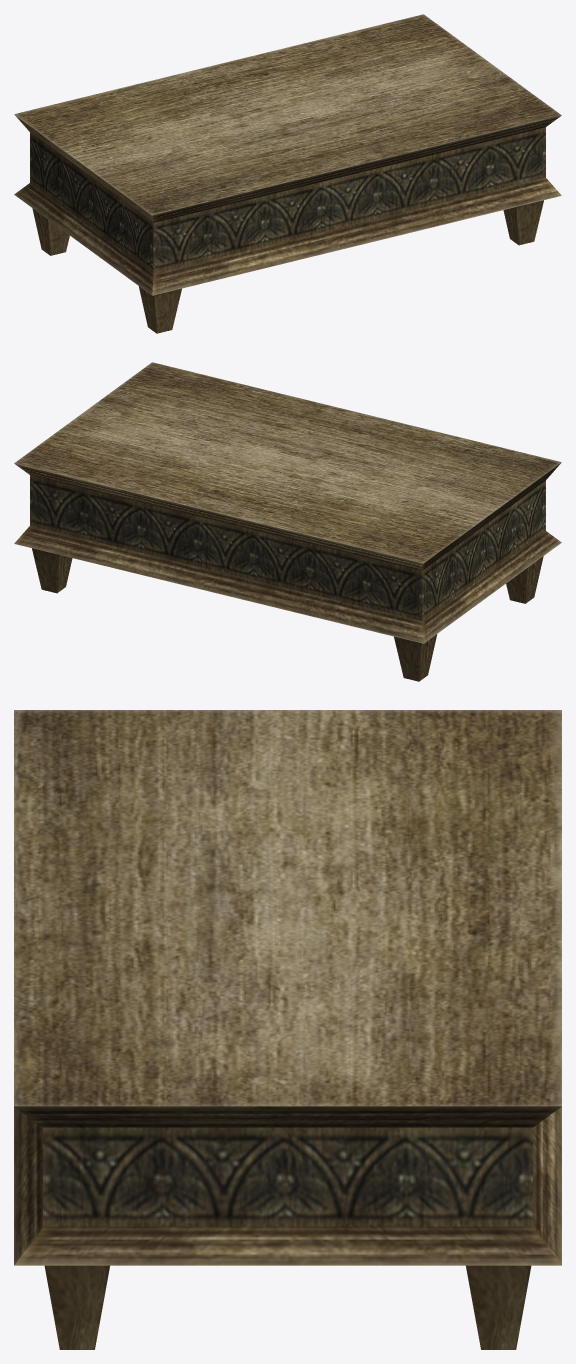
Rendered from table.fbx.
The picture shows the model from 3 angles, top to bottom: view 1: azimuth 30°, elevation 25°; view 2: azimuth 150°, elevation 25°; view 3: azimuth 270°, elevation 25°; orthographic projection. The views are drawn at different scales.
Parts seen in each view (by area): view 1: table; view 2: table; view 3: table.
Part boxes in pixels (box(x1,y1,x2,y2)): table: box(14, 14, 561, 333); table: box(14, 362, 561, 681); table: box(14, 710, 561, 1349).
Bounding box in the file's own units: 115 × 35 × 67.11.
